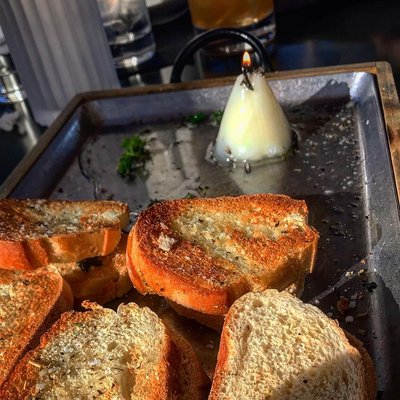pizza: (96, 0, 157, 72)
